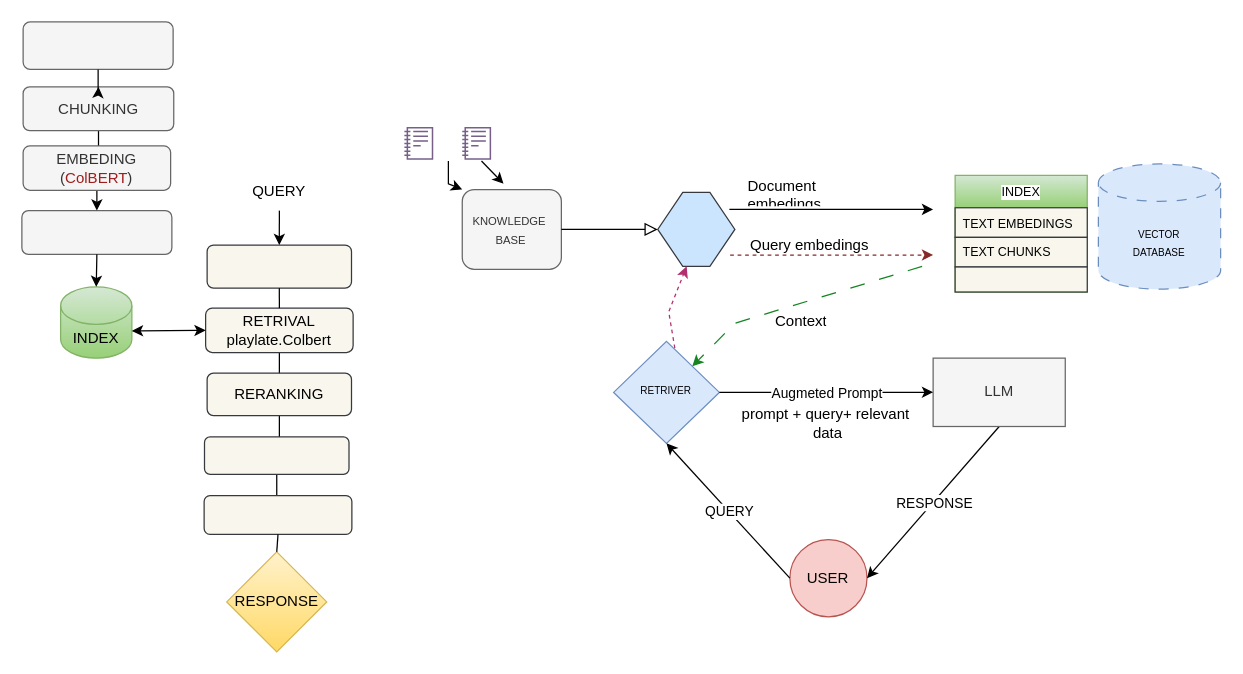
This 1243x674 diagram has some shape labels left out. The centre of each missing label's shape, as x and y in pixels:
"AUGMENTATION" goes at point (276, 455).
"EMBEDDING MODEL" goes at point (695, 228).
"EMBEDING" goes at point (279, 266).
"GENERATION FLAN-T5-base" goes at point (277, 514).
"INDEXING ( voyage r )" goes at point (96, 231).
"METADATA" goes at point (1020, 279).
"PDF LOADING" goes at point (97, 45).
